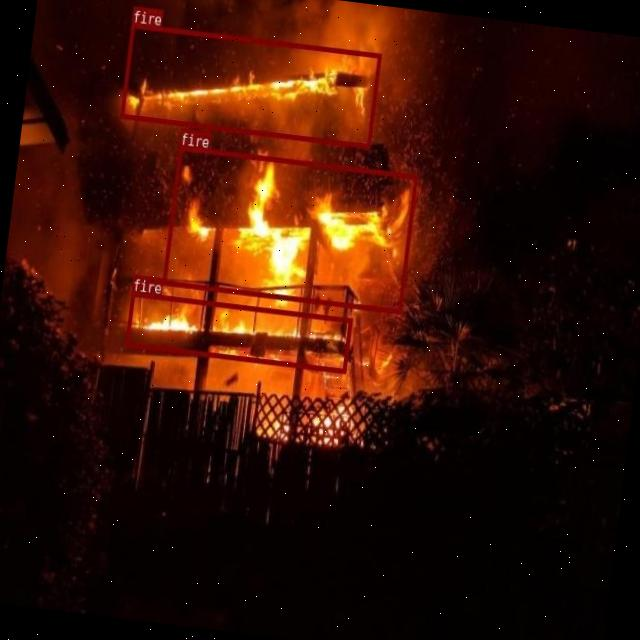fire: (162, 144, 416, 312), (119, 22, 380, 148), (125, 290, 352, 372)
